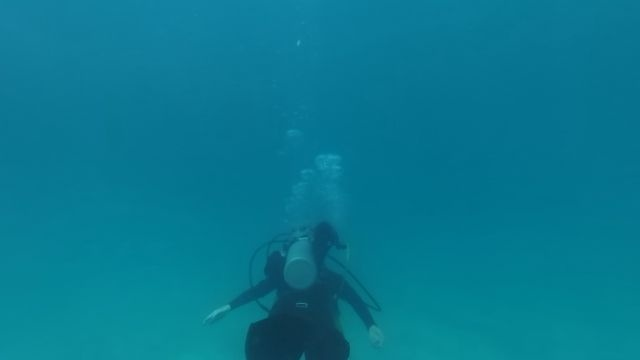Diver: (198, 203, 410, 359)
Hand: (204, 294, 241, 336), (359, 316, 393, 352)
